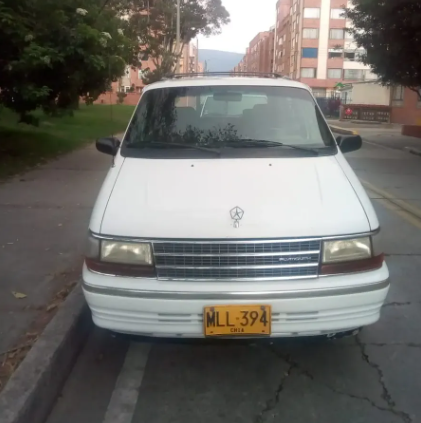placa: (202, 306, 273, 336)
